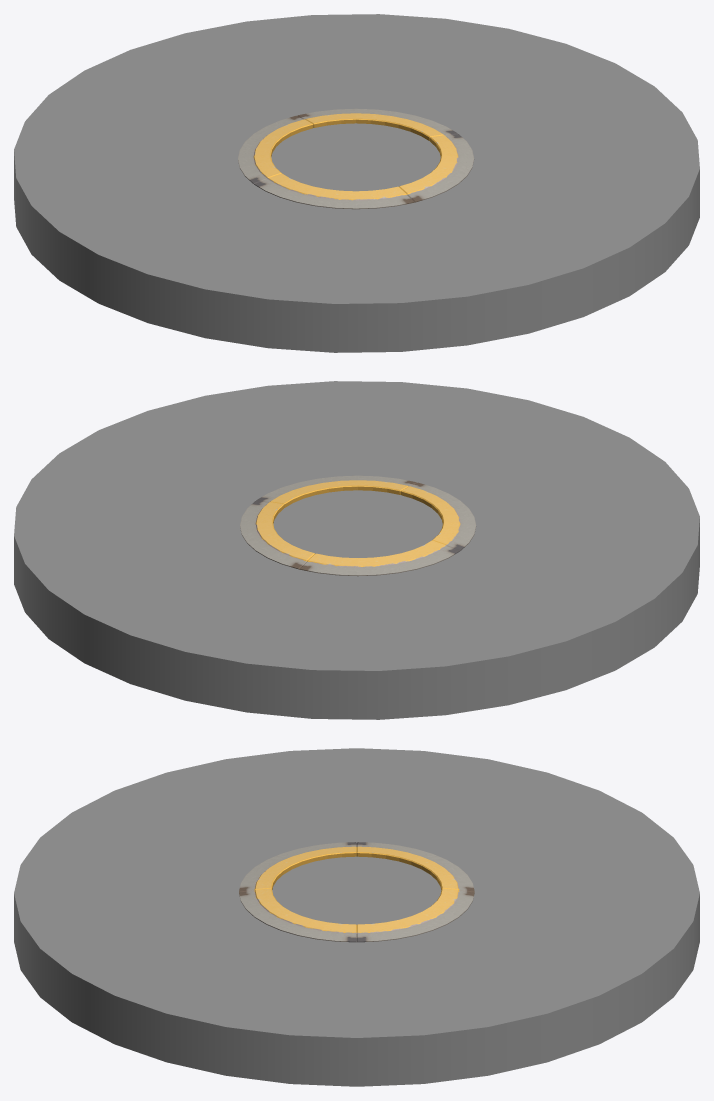
File: Demo_pingtai02.FBX
3 renders of one model, top to bottom at view 1: azimuth 30°, elevation 25°; view 2: azimuth 150°, elevation 25°; view 3: azimuth 270°, elevation 25°, orthographic.
Visible parts, largest first — view 1: Demo_pingtai02; view 2: Demo_pingtai02; view 3: Demo_pingtai02.
Part boxes in pixels (x1,y1,x2,y2): Demo_pingtai02: (14,14,699,352); Demo_pingtai02: (14,381,699,719); Demo_pingtai02: (14,748,699,1086).
Bounding box in the file's own units: 26.99 × 2.33 × 26.99.
